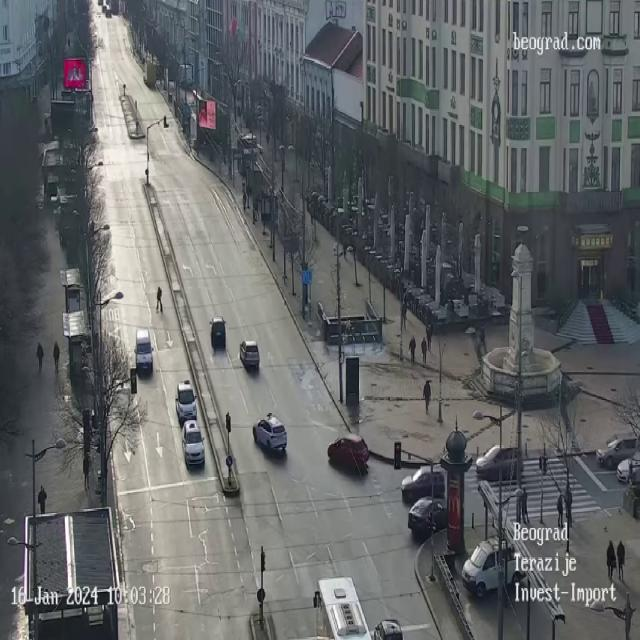bus: (316, 575, 373, 640)
car: (465, 540, 522, 594), (327, 434, 370, 475), (408, 496, 452, 534), (477, 444, 523, 478), (594, 436, 640, 468), (252, 412, 287, 454), (400, 466, 444, 498), (181, 419, 205, 470), (175, 378, 198, 422), (134, 328, 153, 372), (618, 452, 640, 484), (240, 340, 260, 370), (374, 619, 403, 639), (209, 316, 226, 350)
